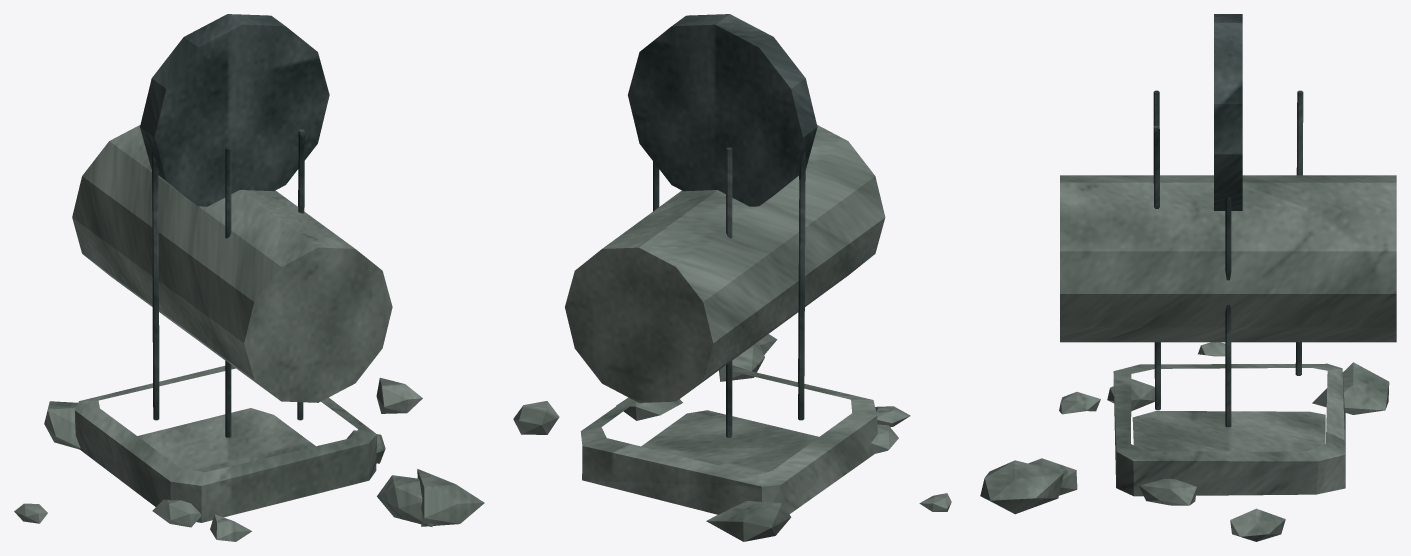
File: 0273_broken_column_23.glb
3 views of the same model, side by side, from view 1: azimuth 30°, elevation 25°; view 2: azimuth 150°, elevation 25°; view 3: azimuth 270°, elevation 25° (orthographic). The views are drawn at different scales.
Visible parts, largest first — view 1: stone, stone_dark; view 2: stone, stone_dark; view 3: stone, stone_dark.
Boxes of the visible parts, x1,y1,x2,y2 form: stone: (14,125,484,541); stone_dark: (140,14,329,437); stone: (513,125,951,541); stone_dark: (628,14,817,437); stone: (980,175,1396,541); stone_dark: (1153,14,1303,427).
Size of the model in its own units: 2.47 by 2.53 by 2.18.
2 materials, 2 textured.
